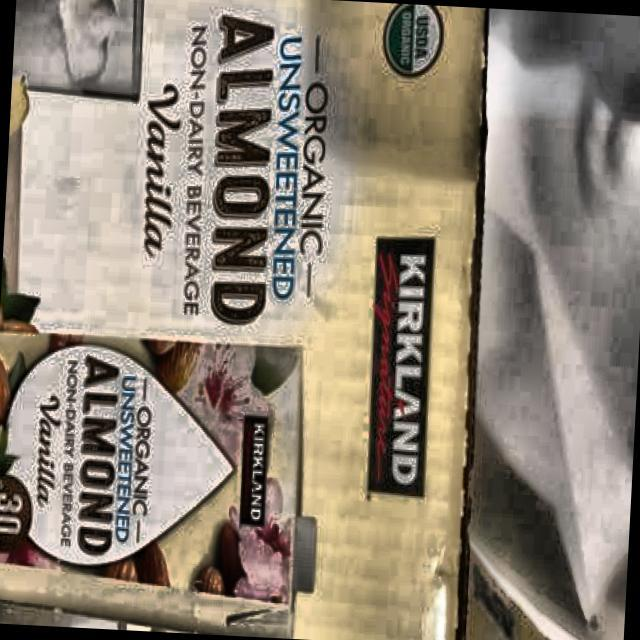cardboard: (0, 0, 495, 640)
